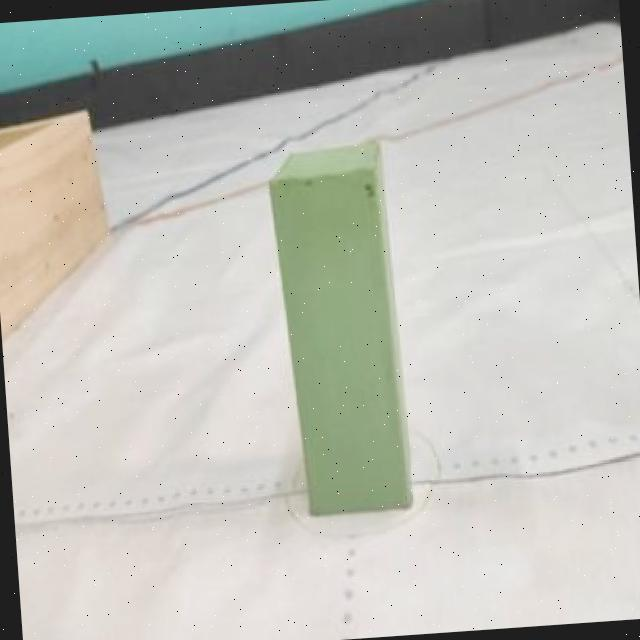greenbox: (260, 138, 412, 520)
